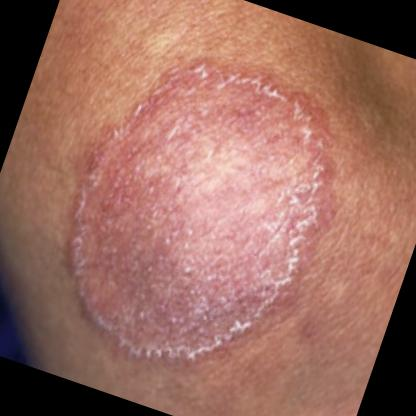Ringworm: (14, 5, 371, 416)
